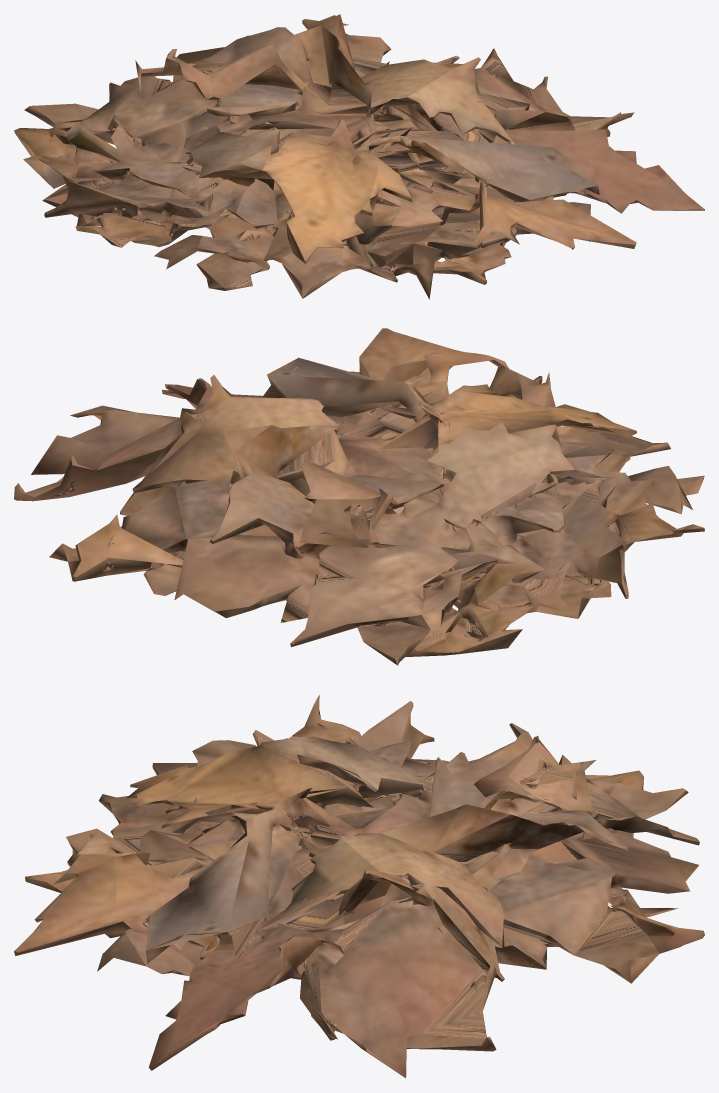
3 renders of one model, top to bottom at view 1: azimuth 30°, elevation 25°; view 2: azimuth 150°, elevation 25°; view 3: azimuth 270°, elevation 25°, orthographic. The views are drawn at different scales.
Visible parts, largest first — view 1: geometry_0; view 2: geometry_0; view 3: geometry_0.
Boxes of the visible parts, x1,y1,x2,y2 form: geometry_0: (14, 14, 704, 299); geometry_0: (14, 328, 704, 665); geometry_0: (14, 695, 704, 1078).
Size of the model in its own units: 0.3488 by 0.0752 by 0.3253.
1 material, 1 textured.
